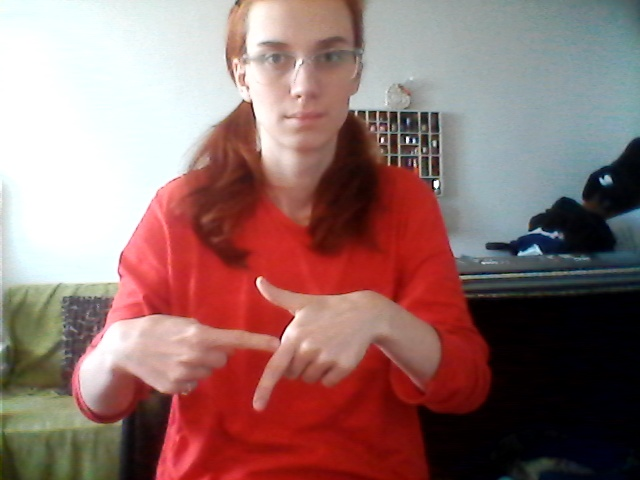f: (139, 268, 381, 422)
